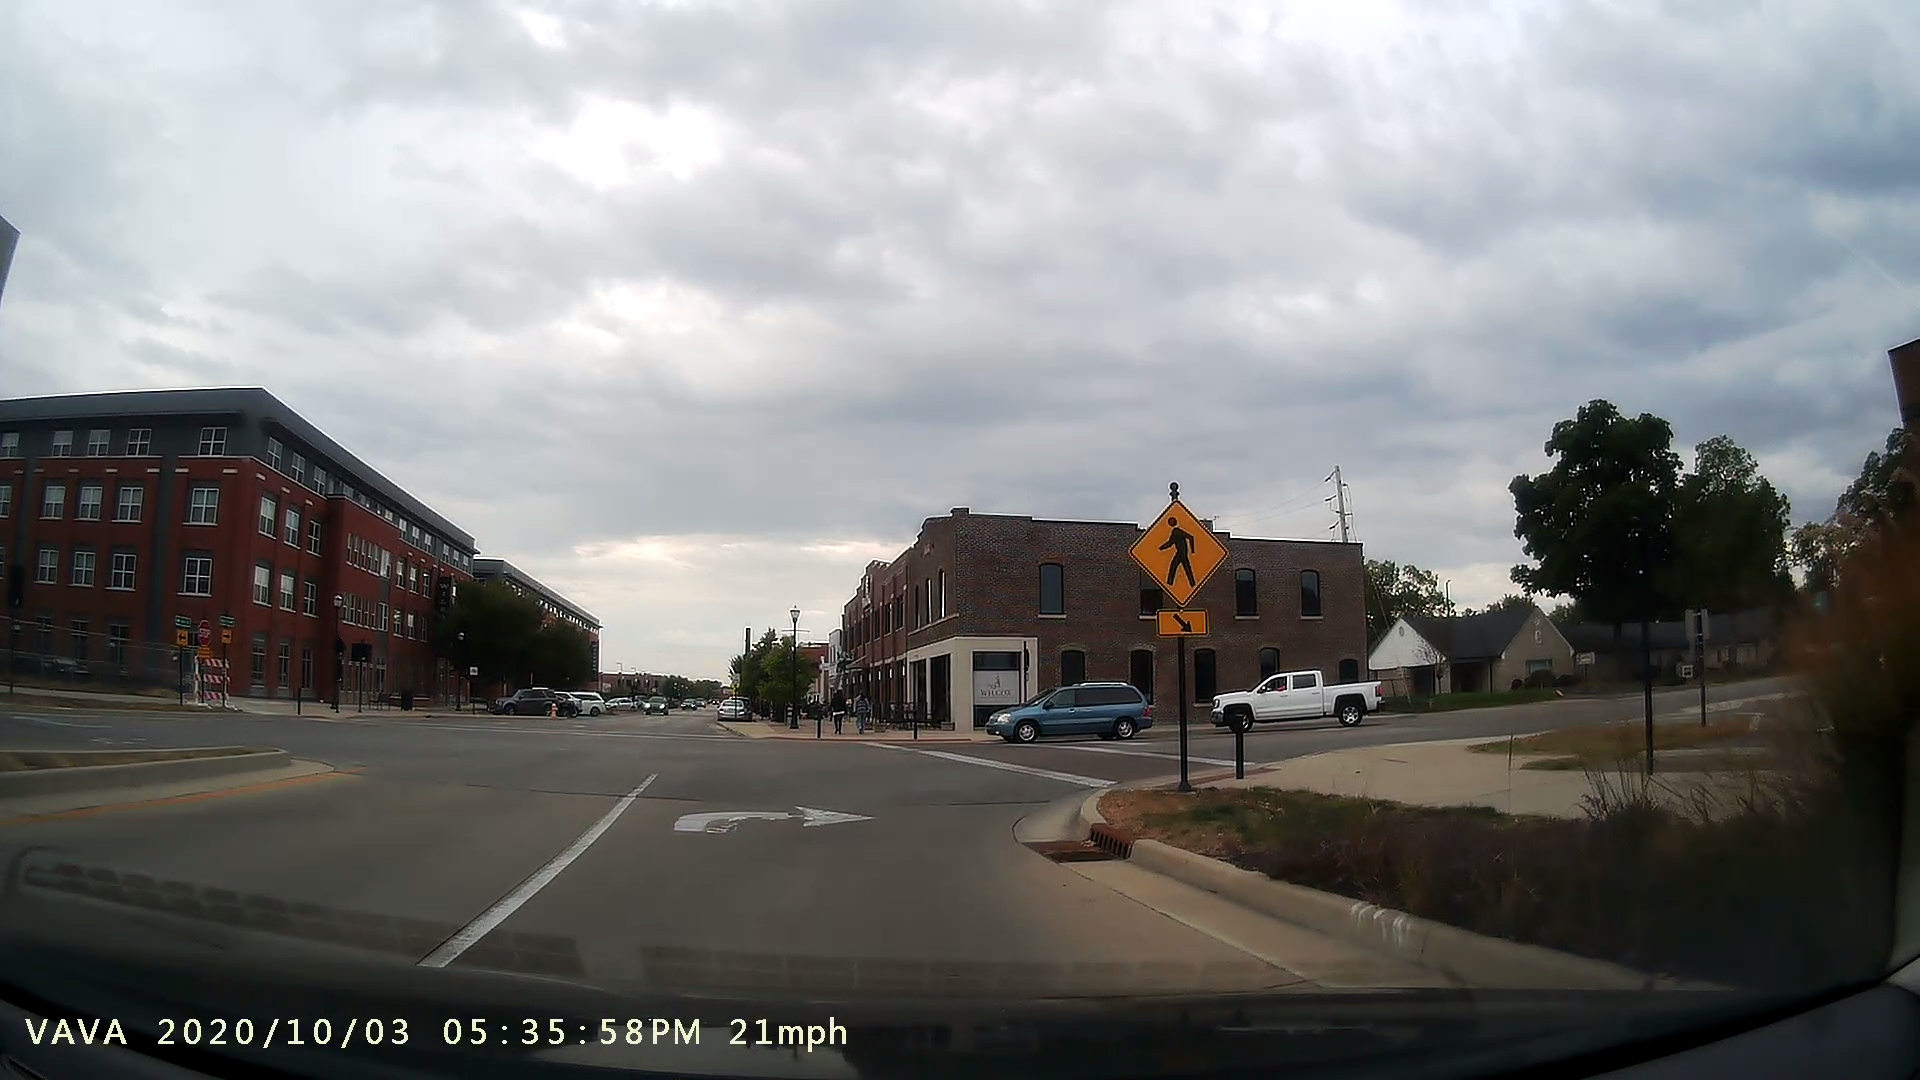right_turn: (658, 777, 889, 866)
